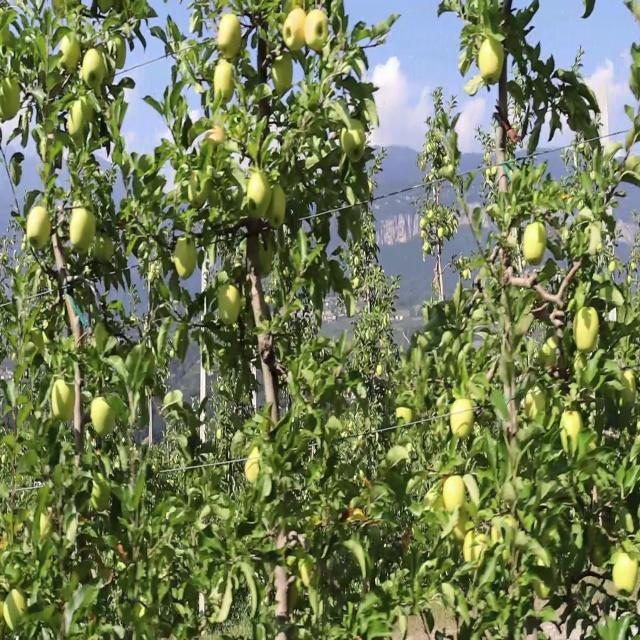apple: (52, 376, 78, 425), (480, 35, 505, 85), (340, 120, 368, 164), (248, 234, 276, 277), (72, 206, 96, 256), (220, 14, 244, 62), (248, 170, 271, 219), (496, 519, 521, 564), (28, 206, 52, 252), (284, 7, 306, 57), (576, 305, 600, 350), (308, 7, 329, 57), (176, 234, 198, 281), (452, 398, 476, 441), (616, 554, 640, 596), (492, 519, 520, 555), (560, 412, 583, 455), (4, 590, 28, 631), (272, 56, 295, 98), (524, 227, 548, 267), (220, 284, 242, 327), (0, 78, 21, 123), (84, 49, 105, 94), (92, 398, 116, 437), (444, 476, 467, 516), (72, 99, 98, 133), (60, 35, 82, 75), (216, 63, 236, 107), (452, 506, 474, 546), (464, 533, 488, 569), (268, 184, 287, 229), (188, 170, 210, 208), (256, 241, 276, 281), (92, 476, 111, 512), (620, 369, 637, 409), (96, 234, 116, 265), (112, 35, 128, 71), (592, 540, 610, 569), (344, 504, 365, 526), (408, 618, 430, 639), (248, 234, 261, 268), (536, 575, 553, 599), (116, 540, 130, 567), (396, 405, 413, 427), (208, 127, 225, 148), (248, 455, 260, 484), (592, 227, 604, 256), (104, 56, 115, 87), (516, 85, 524, 105), (428, 206, 436, 222), (420, 220, 428, 233), (440, 227, 445, 240)
